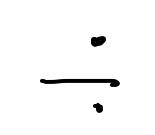div: (40, 36, 120, 113)
